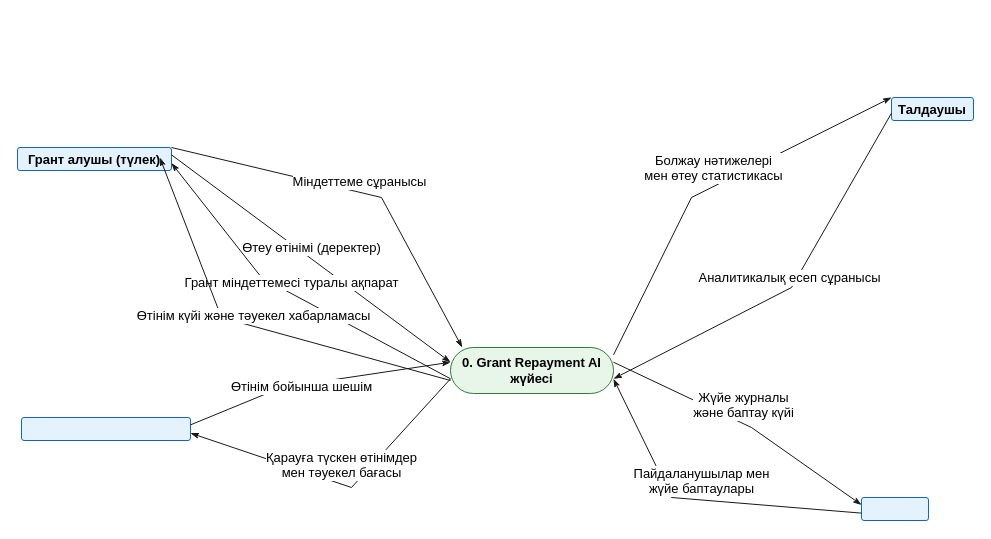
The diagram is 991 pixels wide and 539 high, and some of its shapes have lost their labels. The box of each missing label's shape, as (x1, y1, x2, y2) in pixels:
Әкімші: (860, 496, 928, 520)
Өтеу жөніндегі маман: (20, 416, 190, 440)
